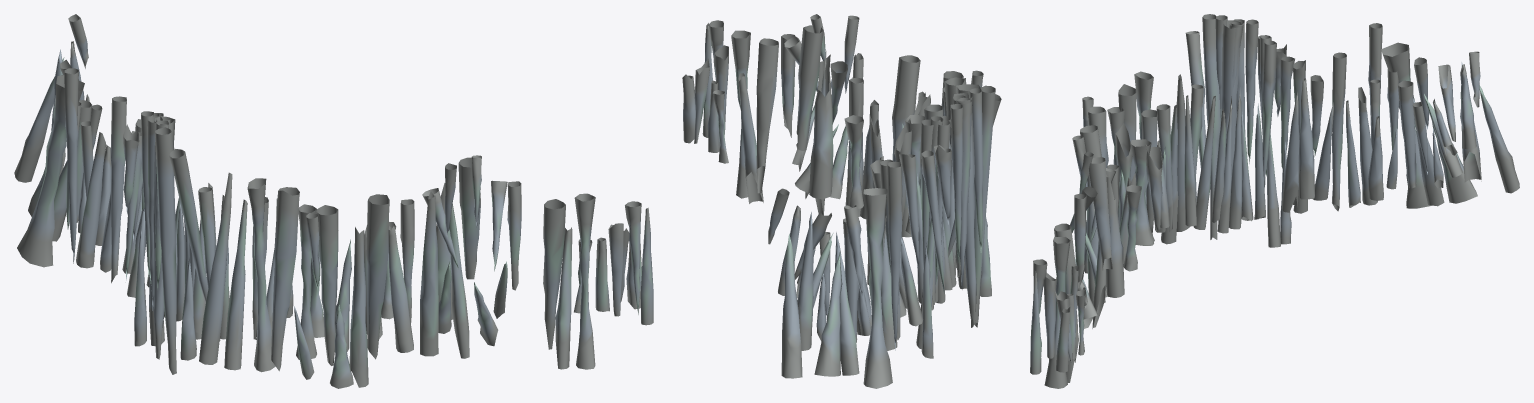
3 views of the same model, side by side, from view 1: azimuth 30°, elevation 25°; view 2: azimuth 150°, elevation 25°; view 3: azimuth 270°, elevation 25° (orthographic). The views are drawn at different scales.
Visible parts, largest first — view 1: G:\FFXIV-MapTools\exports\l1f1\bg\ffxiv\lak_l1\fld\l1f1\bgpa; view 2: G:\FFXIV-MapTools\exports\l1f1\bg\ffxiv\lak_l1\fld\l1f1\bgpa; view 3: G:\FFXIV-MapTools\exports\l1f1\bg\ffxiv\lak_l1\fld\l1f1\bgpa.
Part boxes in pixels (box(x1,y1,x2,y2)): G:\FFXIV-MapTools\exports\l1f1\bg\ffxiv\lak_l1\fld\l1f1\bgpa: box(14, 14, 653, 388); G:\FFXIV-MapTools\exports\l1f1\bg\ffxiv\lak_l1\fld\l1f1\bgpa: box(682, 14, 1001, 388); G:\FFXIV-MapTools\exports\l1f1\bg\ffxiv\lak_l1\fld\l1f1\bgpa: box(1030, 14, 1519, 388).
Bounding box in the file's own units: 61.27 × 36.31 × 70.79.
